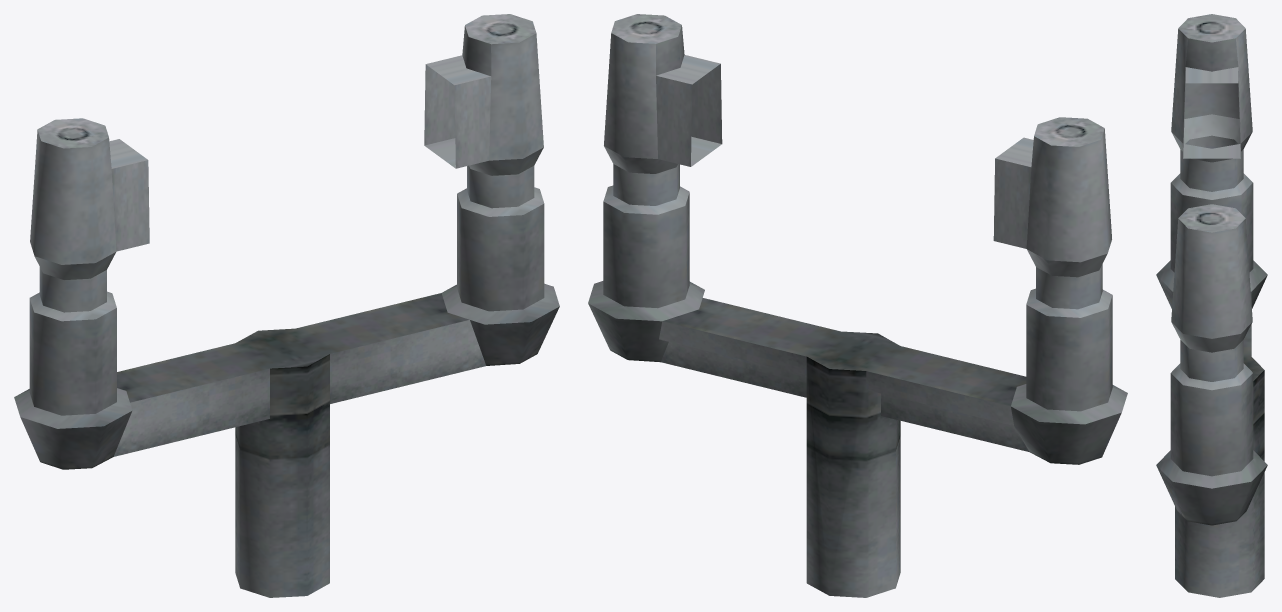
File: vt49_turret_base_l0.fbx
The picture shows the model from 3 angles, left to right: view 1: azimuth 30°, elevation 25°; view 2: azimuth 150°, elevation 25°; view 3: azimuth 270°, elevation 25°; orthographic projection. The views are drawn at different scales.
Parts seen in each view (by area): view 1: mesh_node; view 2: mesh_node; view 3: mesh_node.
Boxes of the visible parts, x1,y1,x2,y2 form: mesh_node: (14, 14, 559, 597); mesh_node: (588, 14, 1127, 597); mesh_node: (1156, 14, 1267, 597).
Bounding box in the file's own units: 1.73 × 1.55 × 0.3448.
